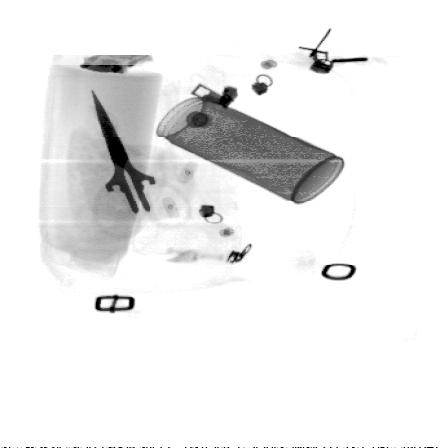Scissors: (86, 88, 194, 244)
